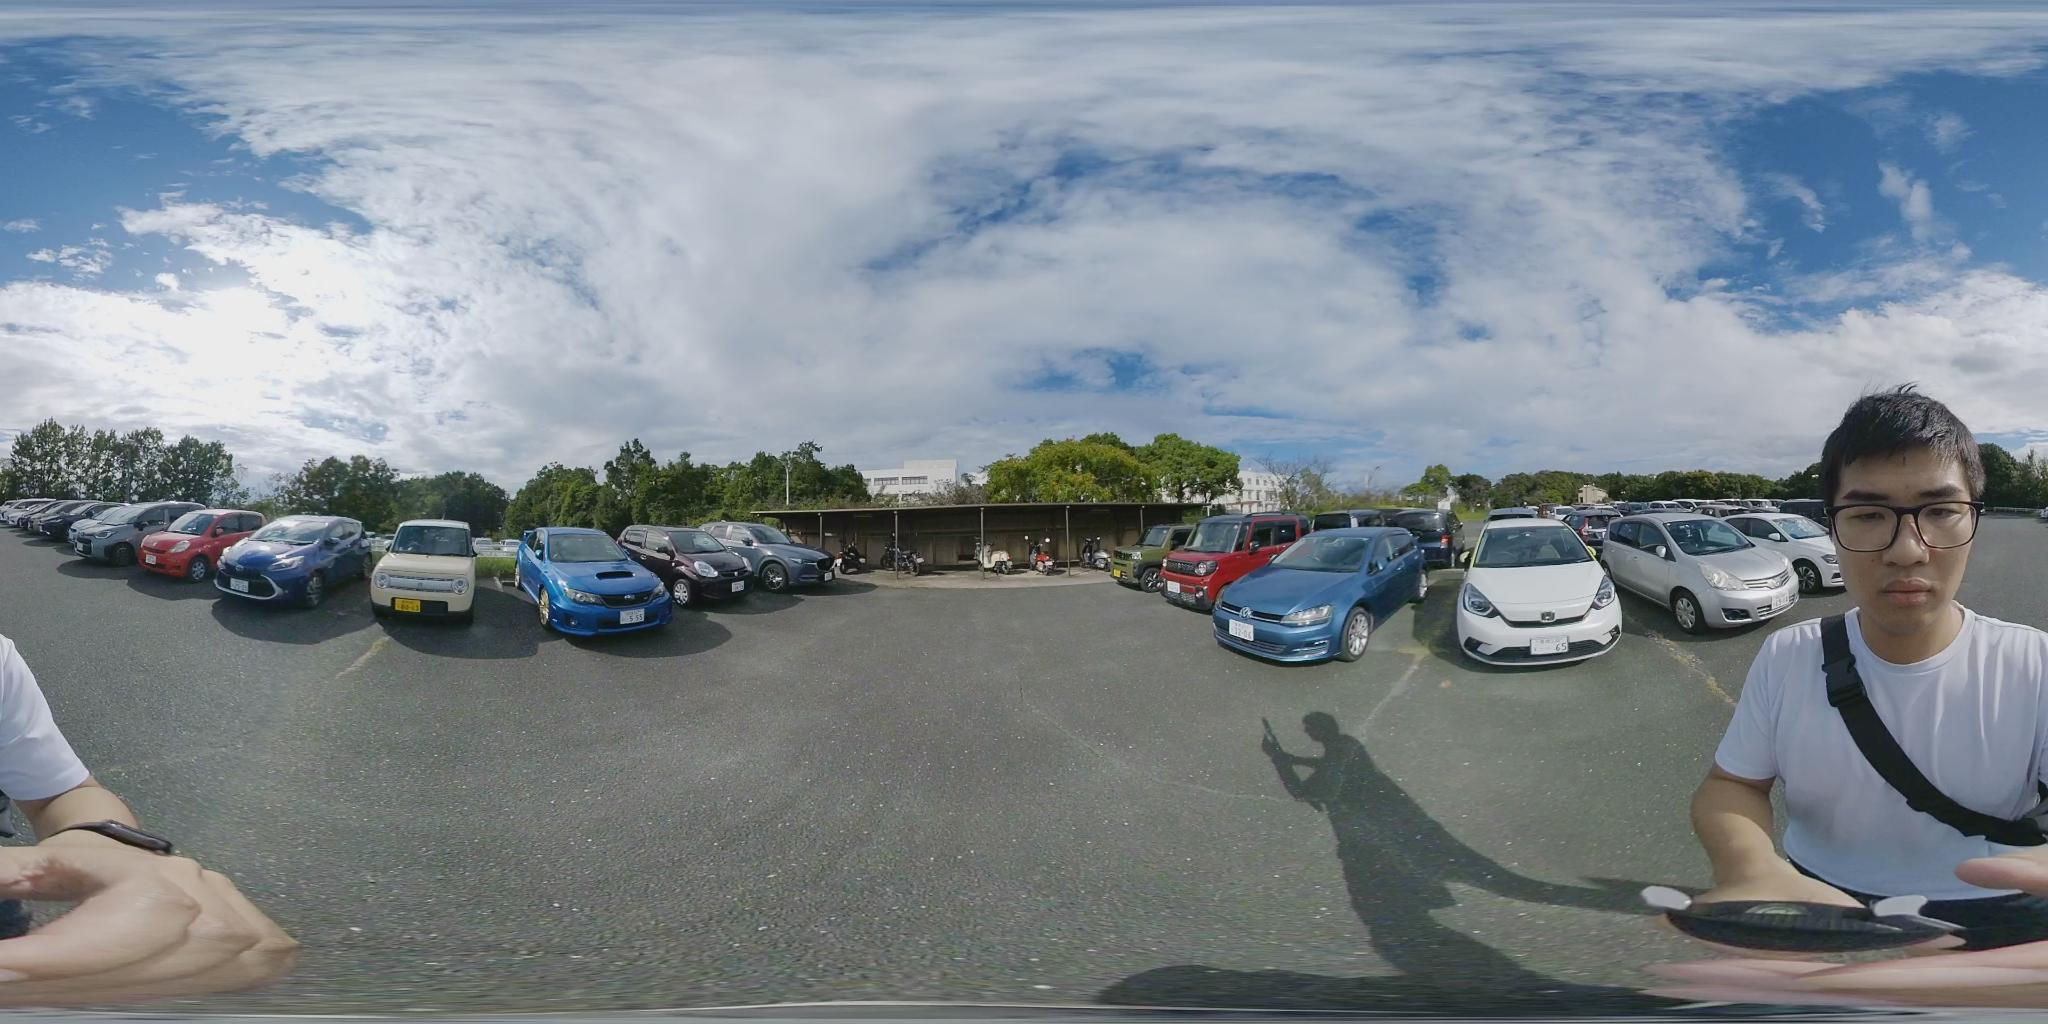car: (1212, 526, 1422, 664), (1455, 520, 1626, 667), (1605, 519, 1809, 633), (509, 528, 680, 639), (208, 515, 372, 606), (1165, 519, 1307, 610), (368, 521, 481, 627), (616, 526, 759, 606), (1707, 512, 1842, 588), (695, 522, 833, 590), (131, 509, 265, 576), (1109, 522, 1234, 593), (71, 502, 202, 560)
